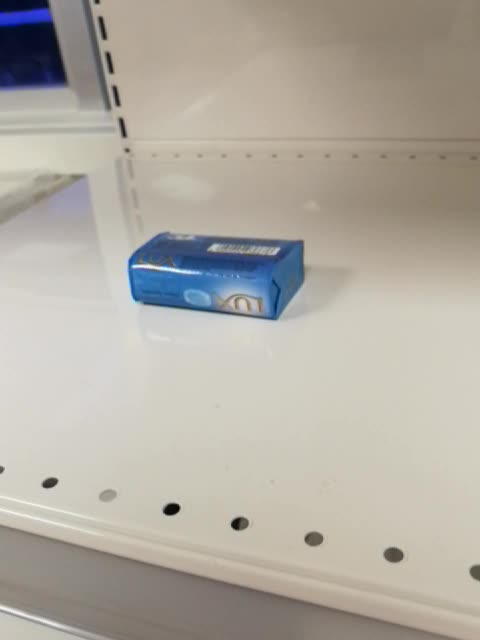soap: (125, 228, 308, 326)
